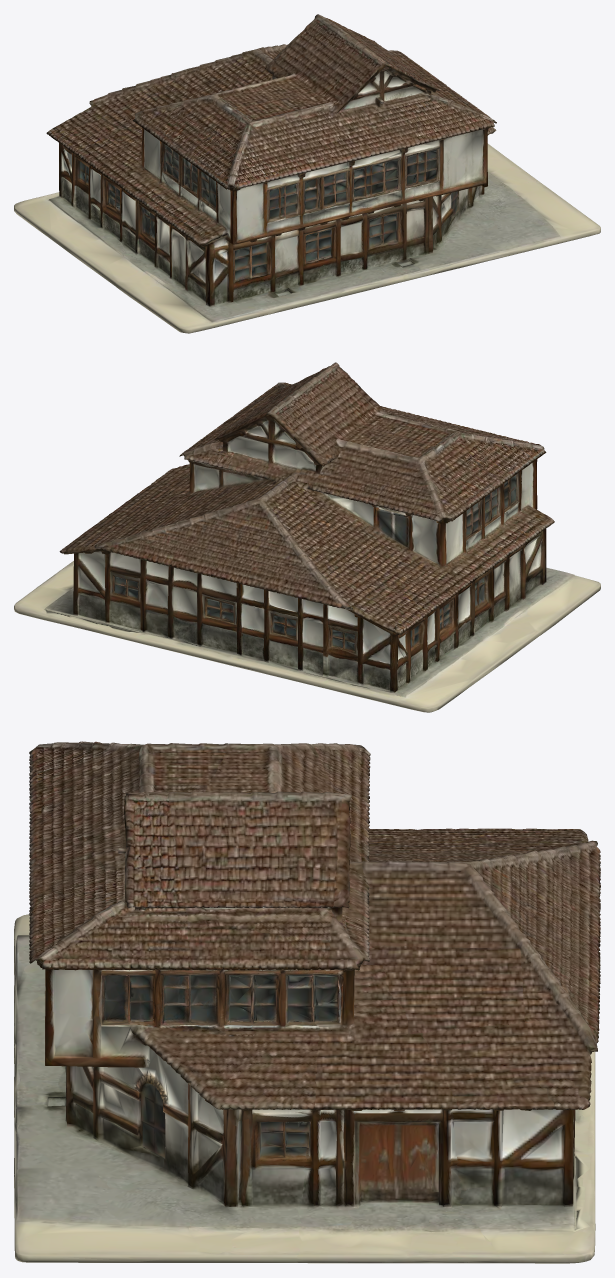
The model's file is barn.glb.
3 renders of one model, top to bottom at view 1: azimuth 30°, elevation 25°; view 2: azimuth 150°, elevation 25°; view 3: azimuth 270°, elevation 25°, orthographic. The views are drawn at different scales.
Visible parts, largest first — view 1: tripo_node_1c0254be-b9a4-4c20-9248-fd4f560a735c; view 2: tripo_node_1c0254be-b9a4-4c20-9248-fd4f560a735c; view 3: tripo_node_1c0254be-b9a4-4c20-9248-fd4f560a735c.
Part boxes in pixels (box(x1,y1,x2,y2)): tripo_node_1c0254be-b9a4-4c20-9248-fd4f560a735c: box(14, 14, 600, 333); tripo_node_1c0254be-b9a4-4c20-9248-fd4f560a735c: box(14, 362, 600, 712); tripo_node_1c0254be-b9a4-4c20-9248-fd4f560a735c: box(14, 741, 600, 1263).
Bounding box in the file's own units: 0.42 × 0.1825 × 0.3026.
1 material, 1 textured.
